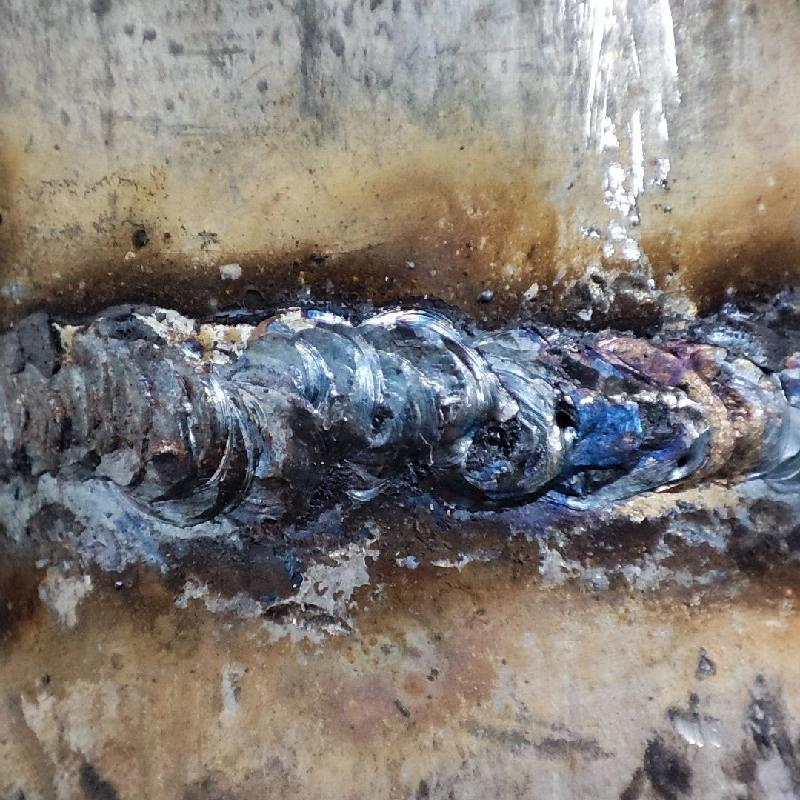Surface_pores: (466, 408, 527, 465), (659, 436, 708, 489), (543, 391, 588, 448)
good: (2, 306, 799, 513)
